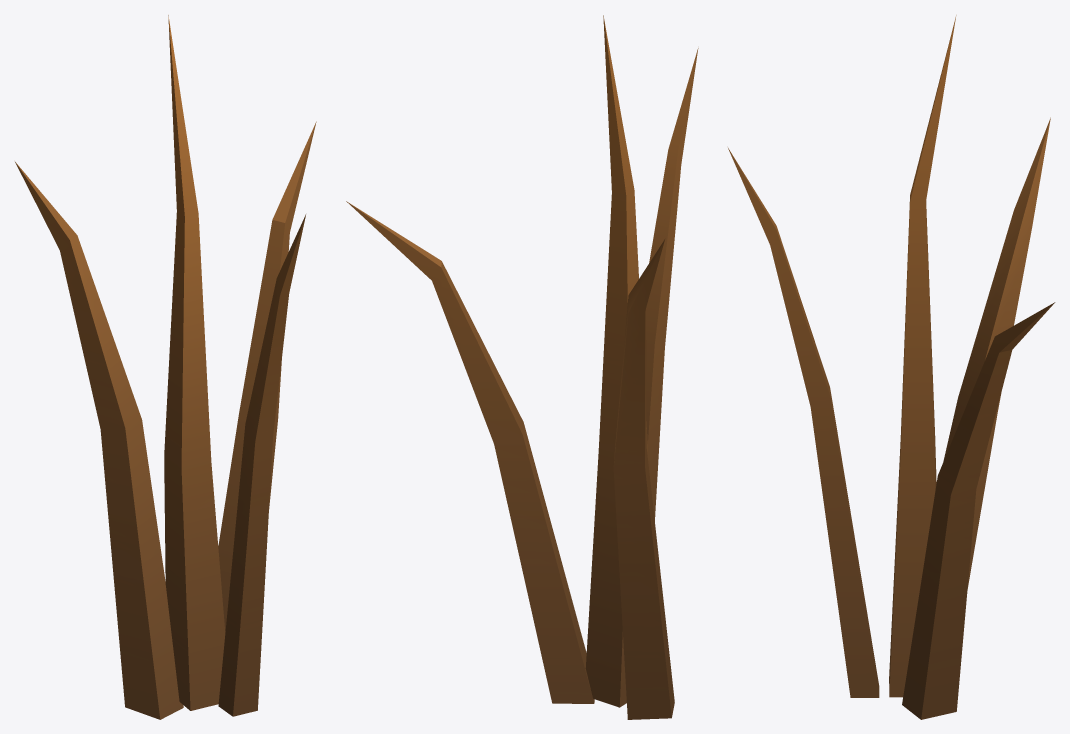
The model's file is Autumn_Grass_05.glb.
3 renders of one model, left to right at view 1: azimuth 30°, elevation 25°; view 2: azimuth 150°, elevation 25°; view 3: azimuth 270°, elevation 25°, orthographic. The views are drawn at different scales.
Visible parts, largest first — view 1: Autumn_Grass_05_LOD0; view 2: Autumn_Grass_05_LOD0; view 3: Autumn_Grass_05_LOD0.
Part boxes in pixels (x1,y1,x2,y2): Autumn_Grass_05_LOD0: [15, 15, 316, 719]; Autumn_Grass_05_LOD0: [346, 15, 698, 719]; Autumn_Grass_05_LOD0: [728, 15, 1055, 719].
Size of what is drawn, in the model's own units: 0.2159 by 0.458 by 0.2017.
1 material, 1 textured.
